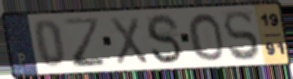0: (33, 18, 69, 70)
O: (186, 12, 227, 63)
S: (144, 12, 184, 66), (222, 9, 262, 63)
X: (108, 15, 151, 67)
Z: (62, 15, 109, 69)
